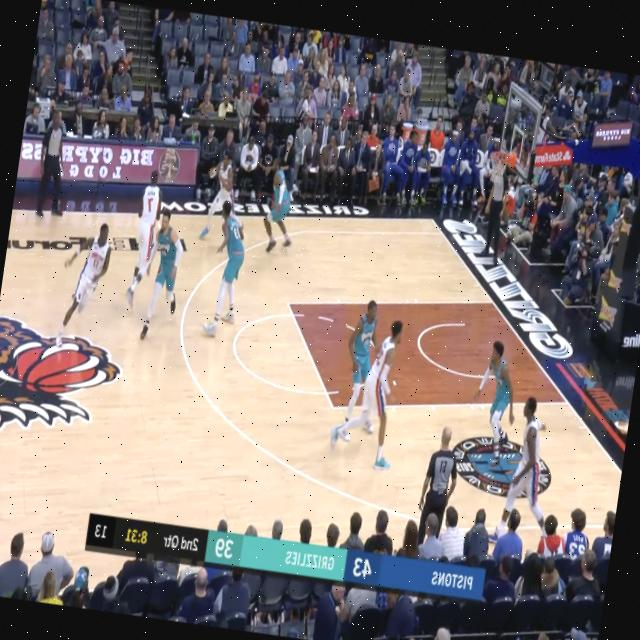no foul: (316, 282, 432, 489), (104, 162, 207, 365)
